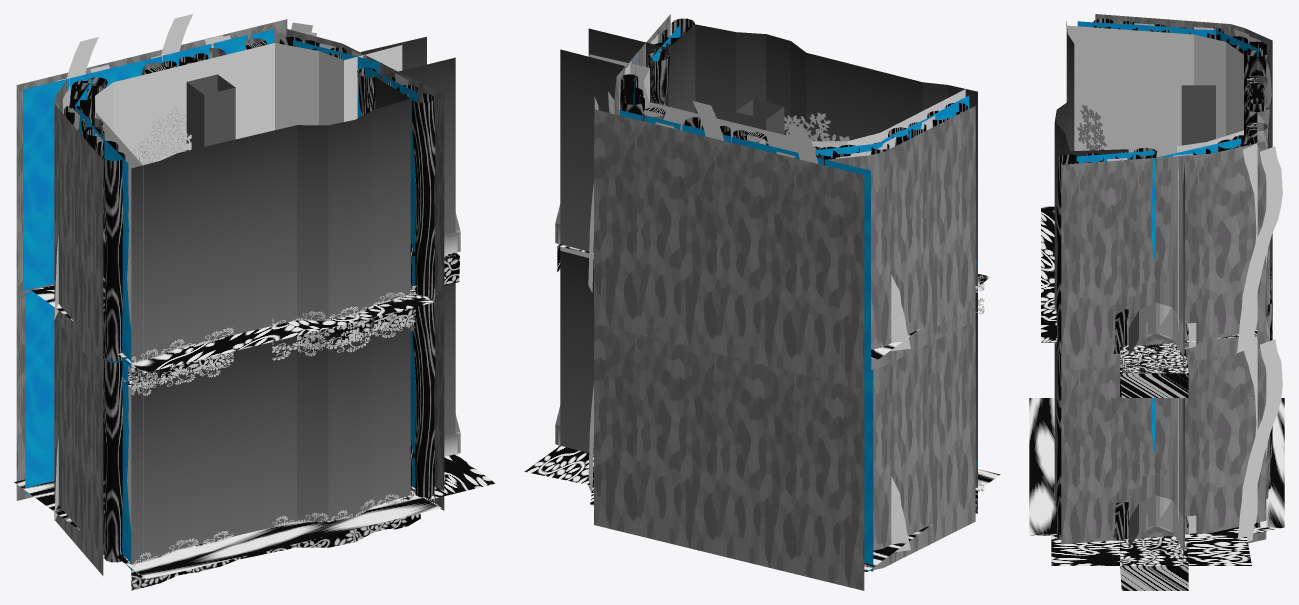
The model's file is mri_12.dae.
3 renders of one model, left to right at view 1: azimuth 30°, elevation 25°; view 2: azimuth 150°, elevation 25°; view 3: azimuth 270°, elevation 25°, orthographic. The views are drawn at different scales.
Visible parts, largest first — view 1: A_f2_yuka_kabe_oku, A_f1_yuka_kabe_oku, A_f2yuka_kabe_mae, S_l_okuA, S_f1_l_okuA, A_f1yuka, S_oku_01C011, S_f1_oku_01C011, S_r_okuD04, S_f1_r_okuD04, S_l_okuD02, S_f1_l_okuD02 (+25 smaller); view 2: S_oku_01A01, S_f1_oku_01A01, A_f2_yuka_kabe_oku, S_l_okuA, S_f1_l_okuA, A_f1_yuka_kabe_oku, A_f2yuka_kabe_mae, A_f1yuka, S_f1_oku_01C011, S_oku_01C011, A_f2, S_r_okuD02 (+6 smaller); view 3: polySurface131_q00018, polySurface131_q00010, A_f2yuka_kabe_mae, A_f1yuka, A_r_kabe, S_oku_01B02, S_f1_oku_01B02, A_r_kabe_2, A_f2_yuka_kabe_oku, A_f2, S_yuka_A01, polySurface126_q00002 (+23 smaller).
Boxes of the visible parts, box(x1,y1,x2,y2) form: A_f2_yuka_kabe_oku: box(131, 36, 455, 363); A_f1_yuka_kabe_oku: box(131, 283, 455, 564); A_f2yuka_kabe_mae: box(95, 43, 402, 358); S_l_okuA: box(54, 79, 103, 373); S_f1_l_okuA: box(54, 307, 103, 575); A_f1yuka: box(14, 454, 495, 579); S_oku_01C011: box(23, 78, 69, 290); S_f1_oku_01C011: box(25, 291, 54, 494); S_r_okuD04: box(412, 93, 435, 300); S_f1_r_okuD04: box(412, 300, 435, 501); S_l_okuD02: box(102, 151, 125, 360); S_f1_l_okuD02: box(103, 355, 122, 562); S_oku_01A01: box(594, 109, 864, 389); S_f1_oku_01A01: box(594, 314, 864, 590); A_f2_yuka_kabe_oku: box(560, 24, 977, 286); S_l_okuA: box(827, 106, 975, 369); S_f1_l_okuA: box(869, 307, 975, 570); A_f1_yuka_kabe_oku: box(560, 251, 977, 487); A_f2yuka_kabe_mae: box(589, 54, 965, 152); A_f1yuka: box(524, 445, 1000, 571); S_f1_oku_01C011: box(864, 370, 873, 571); S_oku_01C011: box(824, 159, 870, 371); A_f2: box(735, 99, 784, 134); S_r_okuD02: box(648, 51, 669, 105); polySurface131_q00018: box(1061, 141, 1266, 369); polySurface131_q00010: box(1061, 338, 1266, 544); A_f2yuka_kabe_mae: box(1066, 25, 1243, 356); A_f1yuka: box(1029, 398, 1284, 565); A_r_kabe: box(1128, 156, 1183, 360); S_oku_01B02: box(1237, 146, 1282, 352); S_f1_oku_01B02: box(1237, 339, 1282, 541); A_r_kabe_2: box(1128, 398, 1183, 553); A_f2_yuka_kabe_oku: box(1054, 21, 1184, 371); A_f2: box(1181, 85, 1215, 145); S_yuka_A01: box(1120, 340, 1188, 373); polySurface126_q00002: box(1041, 283, 1257, 373).
Size of the model in its own units: 60.32 by 69.65 by 37.23.
